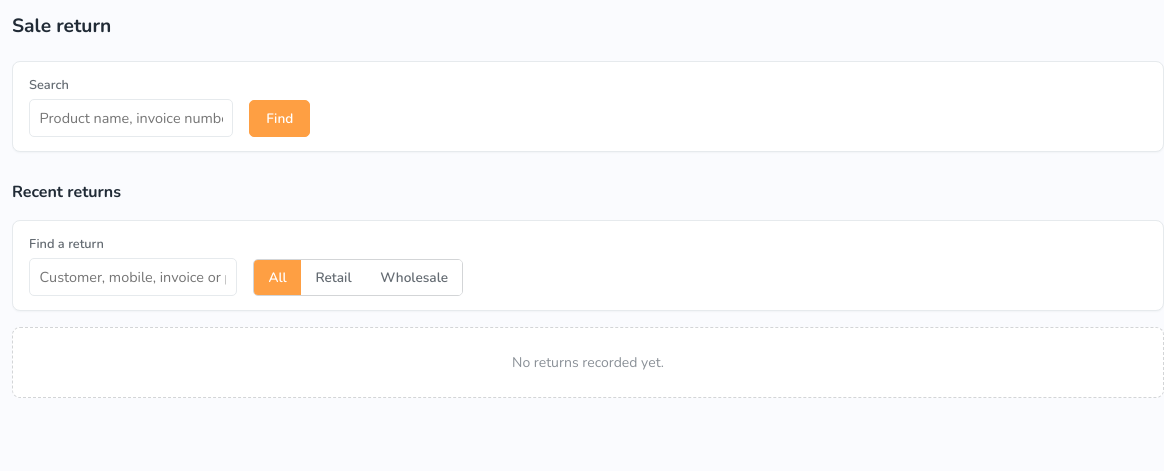
Test case: customer returns › says so when nothing matches
Type "03001234567" into the field labelled "Search". click: (131, 118)
box: [29,99,233,137]
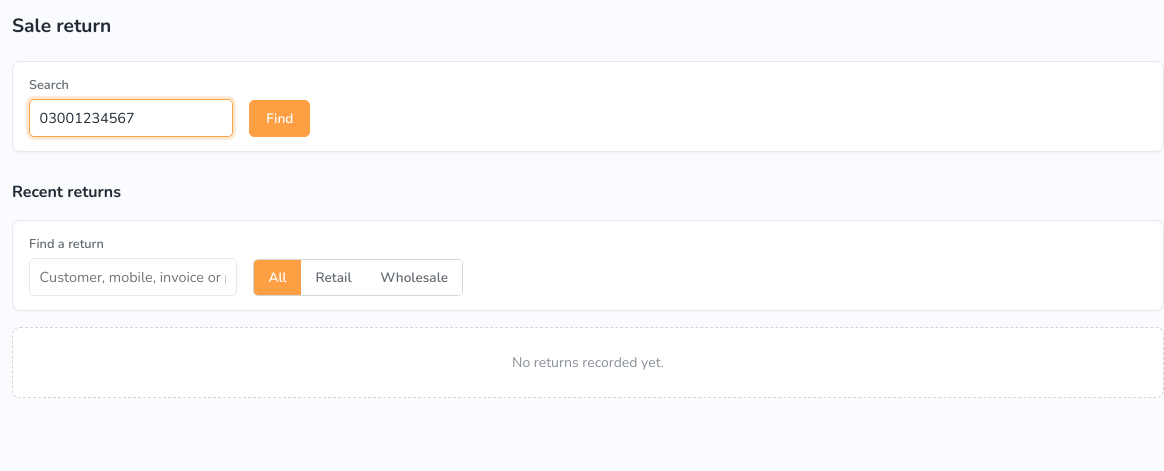
Click the button "Find". click: (280, 118)
box: [249,100,310,137]
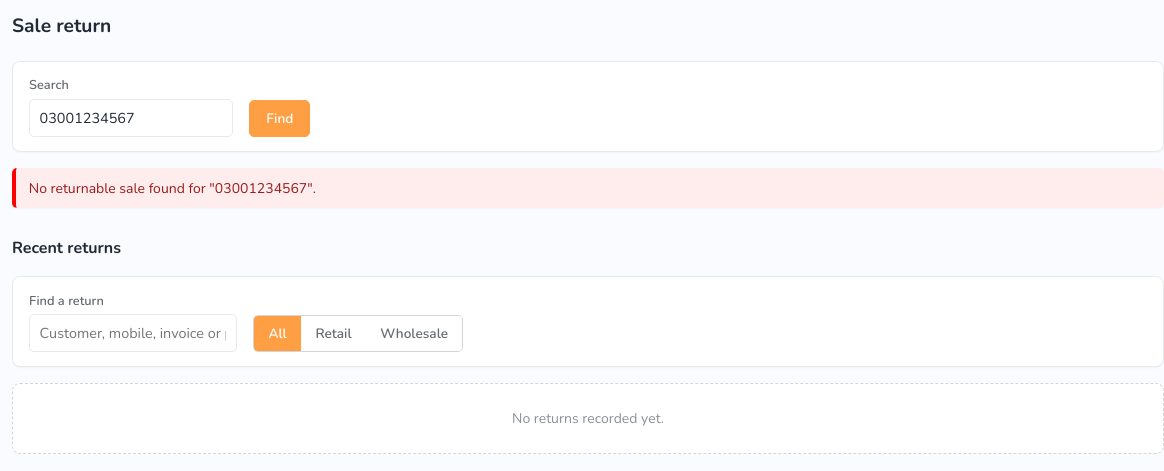
Result: the text "No returnable sale found for \"03001234567\"." is shown at [12,168,1163,208]
